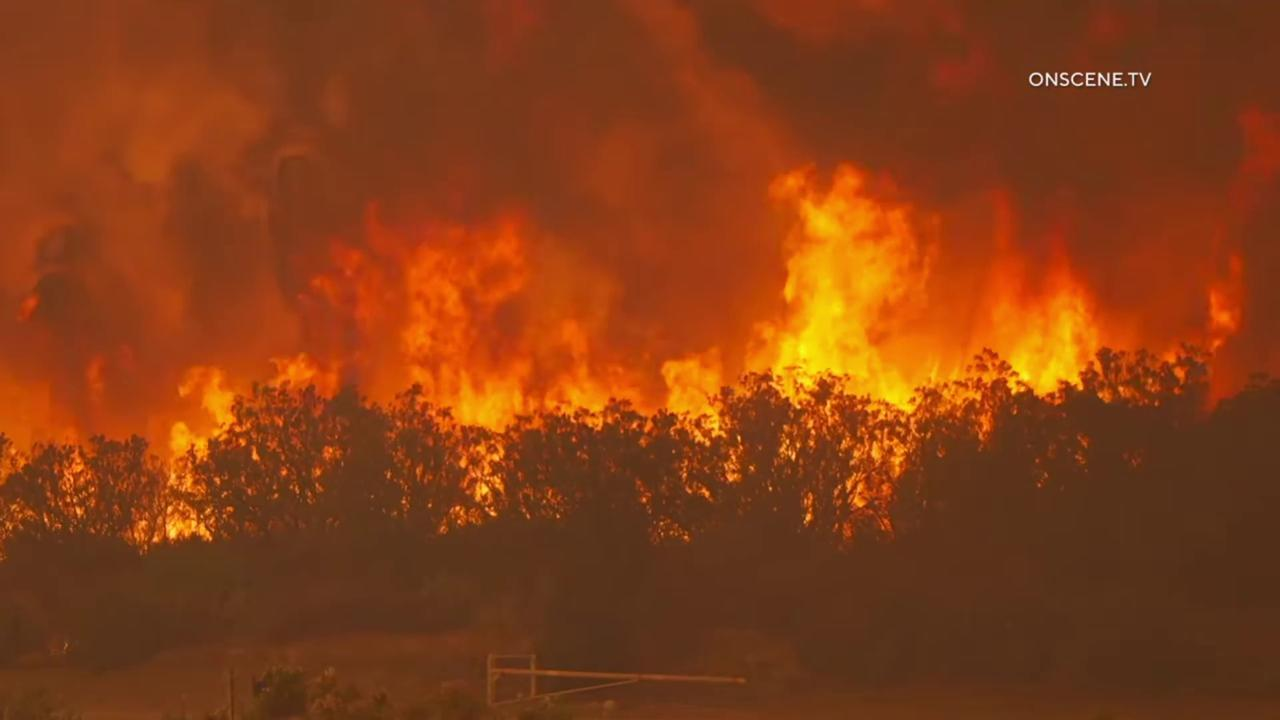fire: (368, 159, 1280, 545), (131, 360, 241, 549), (264, 191, 359, 400)
smoke: (0, 0, 1280, 720)
